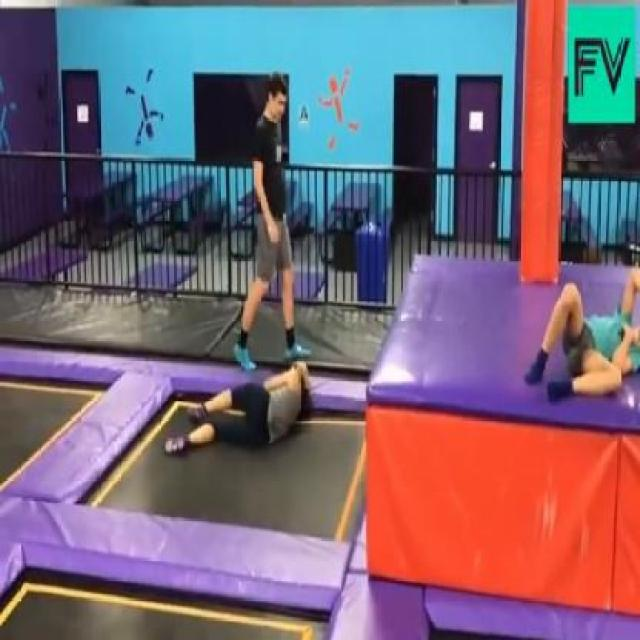fall: (532, 272, 639, 414), (172, 362, 316, 460)
